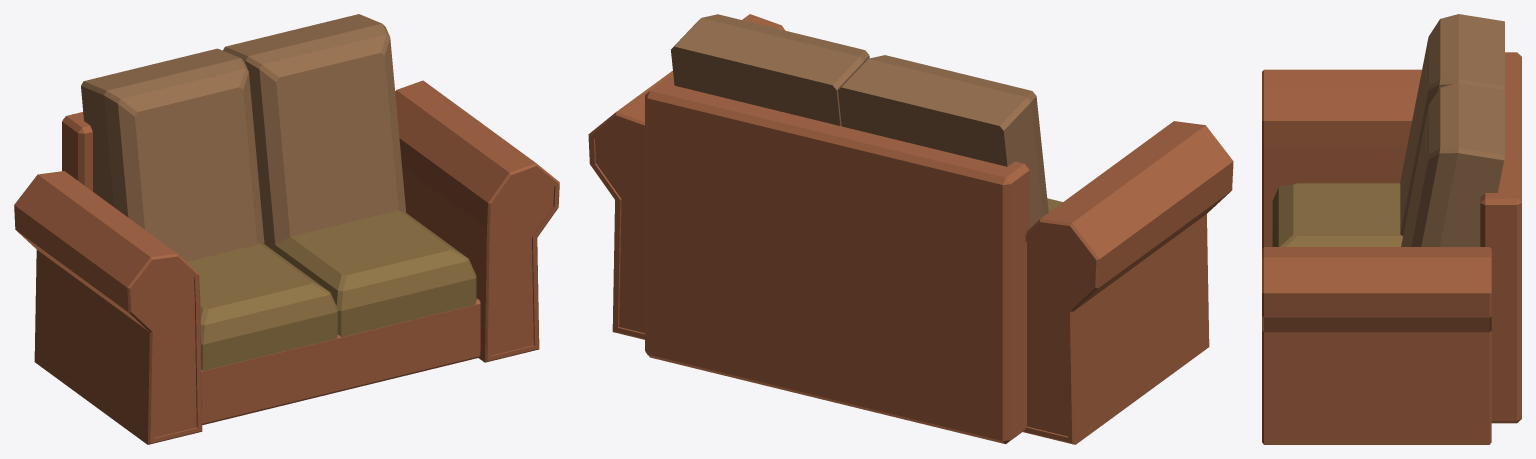
Rendered from two-seater-couch.glb.
3 views of the same model, side by side, from view 1: azimuth 30°, elevation 25°; view 2: azimuth 150°, elevation 25°; view 3: azimuth 270°, elevation 25° (orthographic). The views are drawn at different scales.
Parts seen in each view (by area): view 1: TwoSeaterCouch1, Pad1TwoSeaterCouch1, Pad4TwoSeaterCouch1, Pad3TwoSeaterCouch1; view 2: TwoSeaterCouch1, Pad1TwoSeaterCouch1; view 3: TwoSeaterCouch1, Pad1TwoSeaterCouch1, Pad3TwoSeaterCouch1.
Boxes of the visible parts, <box> form: TwoSeaterCouch1: <box>14,80,559,444</box>; Pad1TwoSeaterCouch1: <box>81,14,406,261</box>; Pad4TwoSeaterCouch1: <box>271,210,476,337</box>; Pad3TwoSeaterCouch1: <box>187,243,337,370</box>; TwoSeaterCouch1: <box>588,14,1233,444</box>; Pad1TwoSeaterCouch1: <box>671,14,1048,228</box>; TwoSeaterCouch1: <box>1262,52,1521,444</box>; Pad1TwoSeaterCouch1: <box>1400,14,1504,246</box>; Pad3TwoSeaterCouch1: <box>1272,183,1402,246</box>.
Size of the model in its own units: 1.97 by 1.18 by 1.03.
